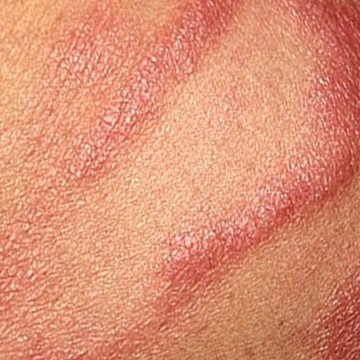Leprosy: (26, 1, 248, 176), (252, 2, 359, 230), (132, 202, 296, 299), (309, 268, 359, 359)
